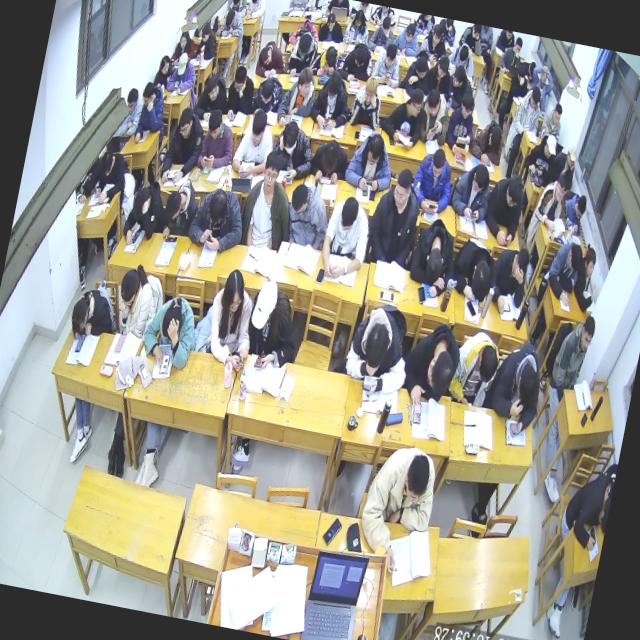bow: (362, 161, 429, 272), (397, 314, 468, 416), (484, 335, 550, 439), (138, 288, 202, 372), (404, 213, 461, 300), (185, 181, 250, 257), (111, 259, 163, 341), (446, 234, 501, 307), (67, 279, 120, 346), (266, 118, 319, 184), (158, 174, 204, 243), (542, 238, 586, 309), (570, 244, 607, 314), (222, 61, 260, 125), (307, 136, 352, 188), (192, 71, 232, 127), (468, 117, 508, 169), (443, 64, 482, 116), (335, 38, 377, 86), (248, 72, 286, 122), (398, 51, 432, 98), (254, 38, 288, 82), (446, 39, 479, 77), (288, 16, 322, 50), (215, 5, 248, 40), (224, 0, 249, 20)
down: (250, 276, 282, 334), (422, 346, 456, 398), (361, 319, 394, 372), (220, 266, 248, 316), (514, 364, 542, 414), (474, 344, 502, 386), (205, 185, 232, 228), (336, 194, 362, 236), (158, 304, 186, 342), (118, 266, 142, 308), (247, 109, 270, 150), (318, 138, 342, 177), (278, 120, 302, 158), (502, 172, 526, 210), (508, 246, 532, 284), (289, 180, 313, 217), (69, 298, 92, 336), (162, 188, 185, 224), (364, 132, 386, 168), (132, 183, 154, 219), (176, 104, 196, 142), (205, 107, 226, 141), (362, 73, 382, 107), (424, 85, 444, 118), (428, 147, 448, 180), (324, 70, 344, 101), (258, 77, 277, 108), (231, 65, 250, 96), (471, 164, 490, 195), (566, 243, 584, 275), (98, 148, 117, 178), (486, 122, 505, 152), (124, 86, 142, 116), (381, 41, 399, 71), (458, 92, 476, 122), (572, 192, 590, 222), (563, 141, 581, 171), (541, 133, 559, 162), (140, 80, 157, 110), (296, 31, 314, 58), (322, 44, 340, 70), (526, 84, 544, 110), (353, 42, 370, 69), (434, 55, 450, 81), (175, 50, 190, 75), (430, 22, 444, 48), (403, 20, 418, 44), (258, 45, 274, 67), (550, 103, 564, 128), (222, 8, 236, 30), (457, 44, 472, 64), (379, 15, 392, 38), (353, 8, 366, 28), (512, 34, 524, 55), (325, 12, 337, 32)
lookup: (400, 452, 434, 509), (259, 148, 285, 195), (390, 165, 416, 211), (576, 314, 596, 355), (581, 244, 600, 280), (552, 173, 572, 206), (199, 21, 213, 44), (538, 64, 552, 86), (178, 29, 190, 50)
sit: (351, 438, 444, 581), (338, 296, 421, 402), (236, 144, 304, 256), (201, 266, 265, 372), (239, 275, 305, 375), (316, 192, 376, 286), (446, 328, 504, 412), (158, 101, 210, 190), (558, 472, 614, 552), (548, 309, 598, 398), (478, 168, 530, 250), (342, 128, 400, 198), (282, 178, 336, 252), (230, 106, 280, 182), (408, 142, 459, 216), (486, 241, 534, 317), (120, 177, 169, 250), (379, 82, 430, 152), (274, 62, 322, 132), (308, 65, 358, 132), (448, 157, 497, 225), (193, 106, 240, 176), (530, 170, 576, 238), (441, 90, 481, 158), (132, 78, 170, 148), (416, 86, 456, 150), (92, 146, 132, 208), (347, 73, 387, 134), (369, 38, 407, 94), (284, 24, 322, 80), (511, 83, 546, 138), (521, 130, 559, 180), (115, 85, 146, 140), (550, 140, 582, 192), (166, 49, 200, 97), (422, 52, 456, 100), (416, 20, 450, 65), (560, 190, 590, 237), (367, 12, 398, 56), (308, 40, 342, 80), (342, 8, 374, 50), (538, 100, 566, 144), (391, 20, 423, 58), (499, 32, 526, 76), (316, 11, 348, 48), (194, 20, 221, 62), (152, 52, 178, 94), (172, 27, 198, 63), (508, 65, 532, 100), (244, 0, 269, 21)
